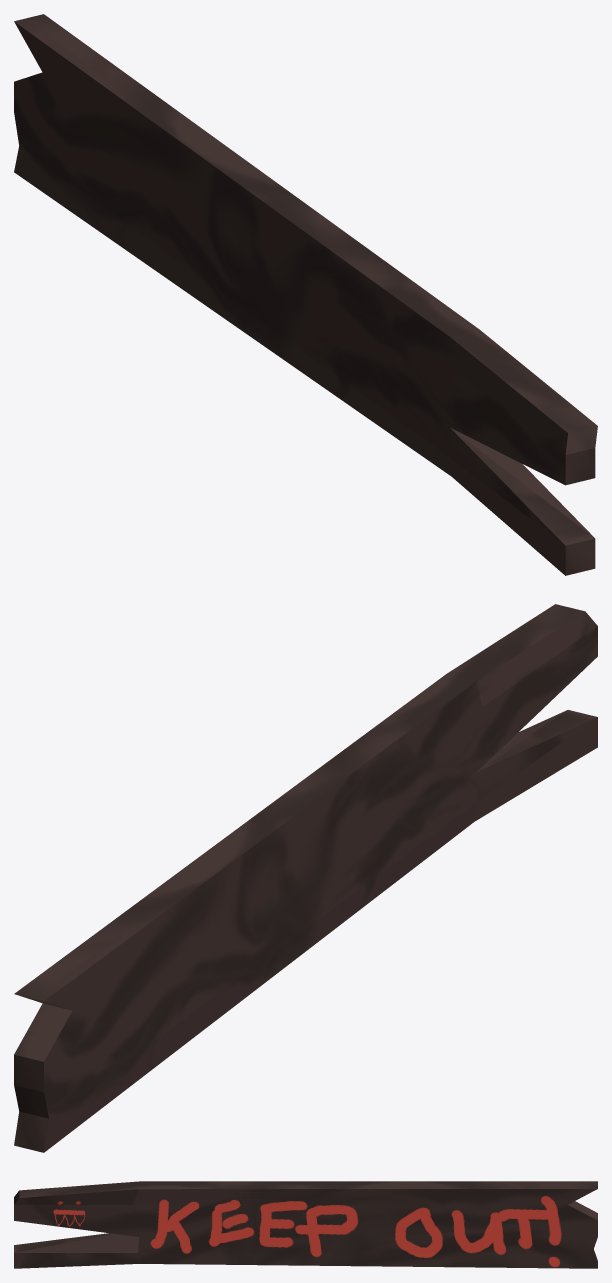
The model's file is board.fbx.
3 renders of one model, top to bottom at view 1: azimuth 30°, elevation 25°; view 2: azimuth 150°, elevation 25°; view 3: azimuth 270°, elevation 25°, orthographic. The views are drawn at different scales.
Parts seen in each view (by area): view 1: Cube; view 2: Cube; view 3: Cube.
Part boxes in pixels (left/top/right/bottom): Cube: left=14, top=14, right=597, bottom=575; Cube: left=14, top=604, right=597, bottom=1152; Cube: left=14, top=1181, right=597, bottom=1268.
Bounding box in the file's own units: 22.64 × 87.68 × 578.
